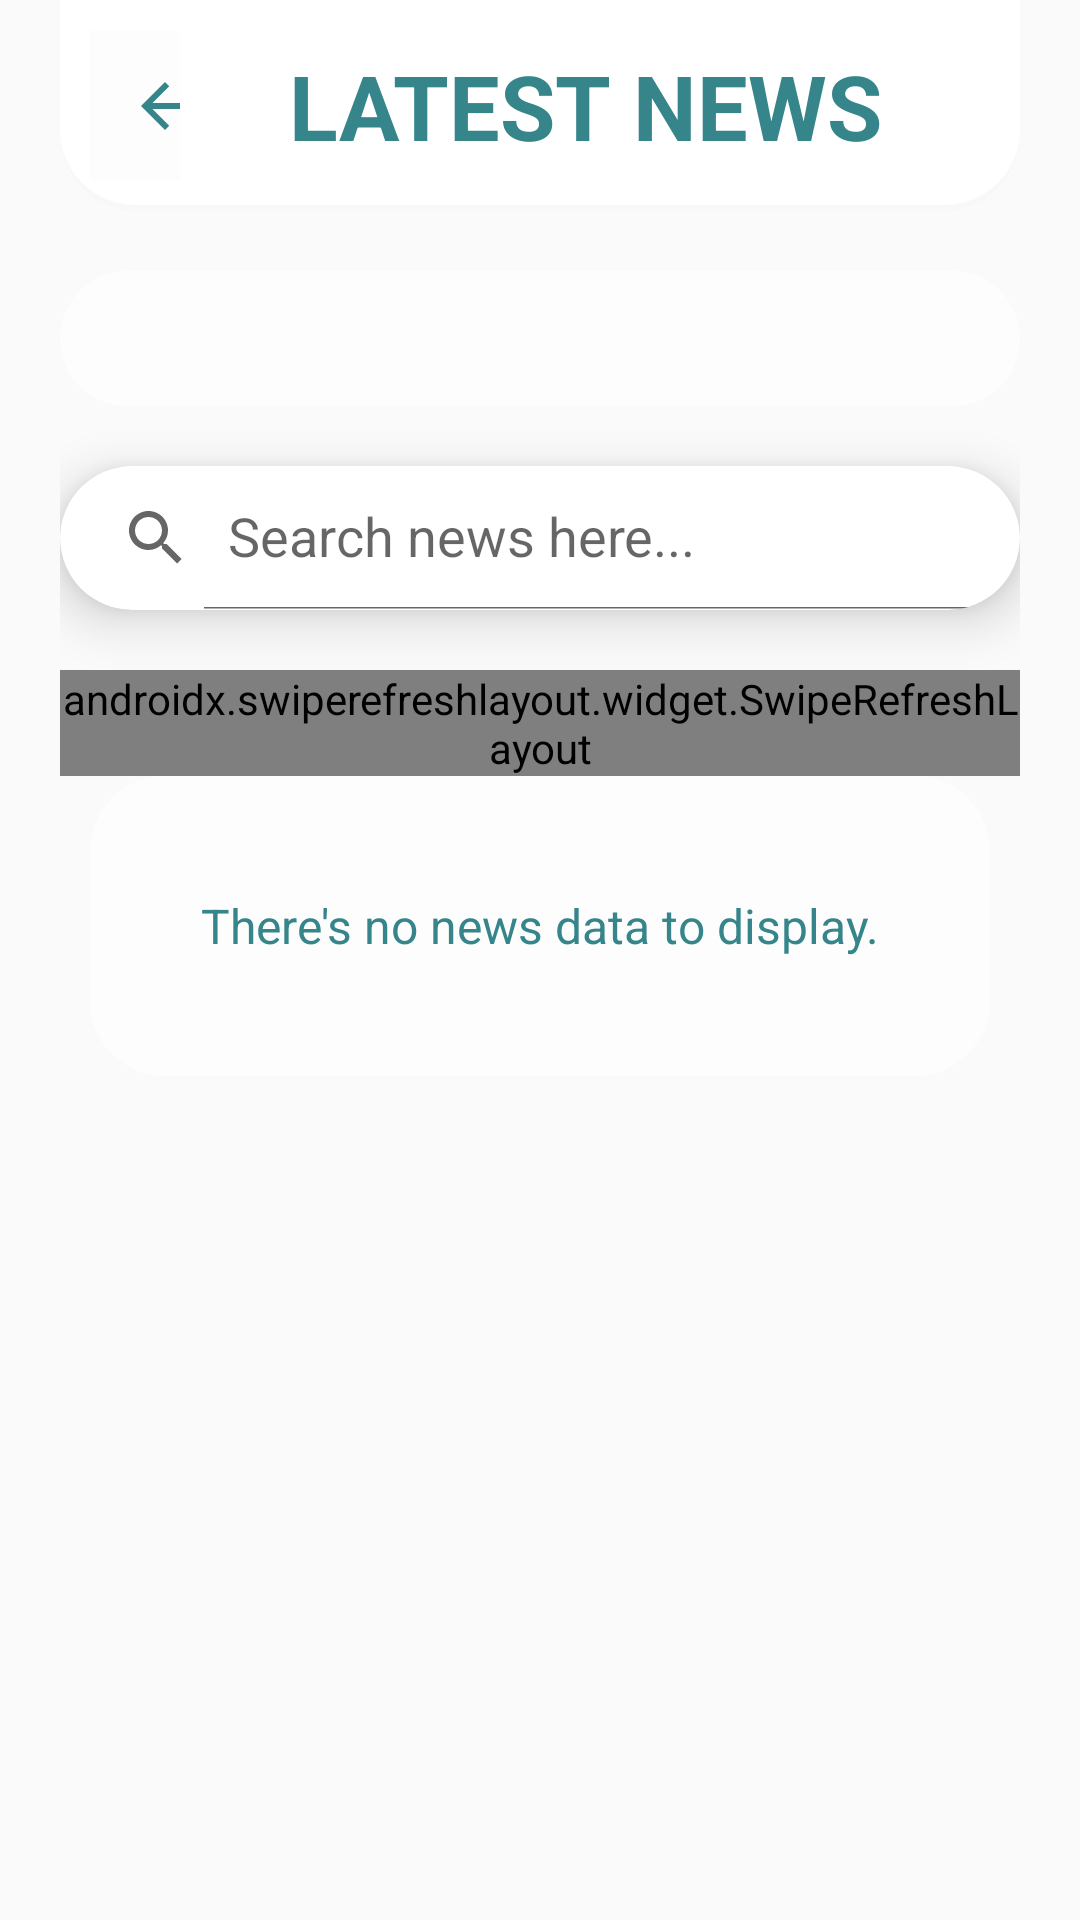

Named icons in this screenshot (1080w x 1920h) and their bounding boxes, (left=x1, top=y1, right=x2, bottom=y2):
back arrow: (left=141, top=82, right=180, bottom=130)
